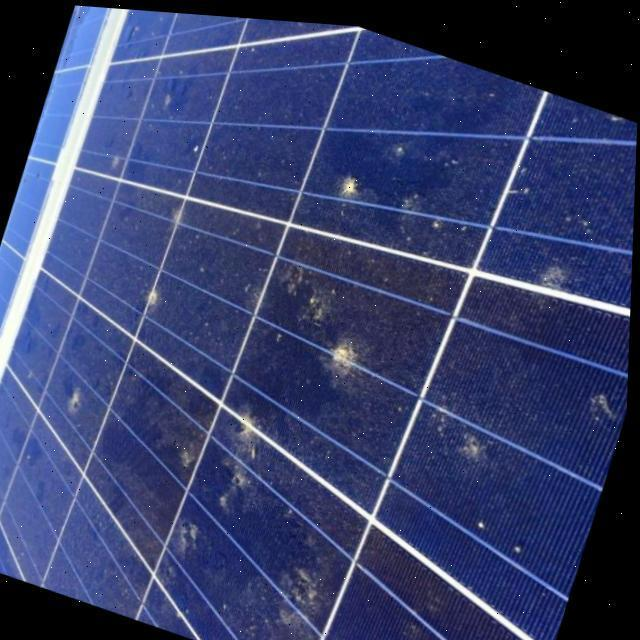Anomaly Solar Panel: (0, 7, 638, 640)
Surface Contaminant: (235, 520, 371, 640), (209, 395, 273, 519), (422, 379, 505, 460), (311, 328, 378, 399), (158, 505, 217, 567), (136, 274, 173, 314), (330, 161, 366, 201), (64, 377, 89, 414), (539, 253, 567, 286)
